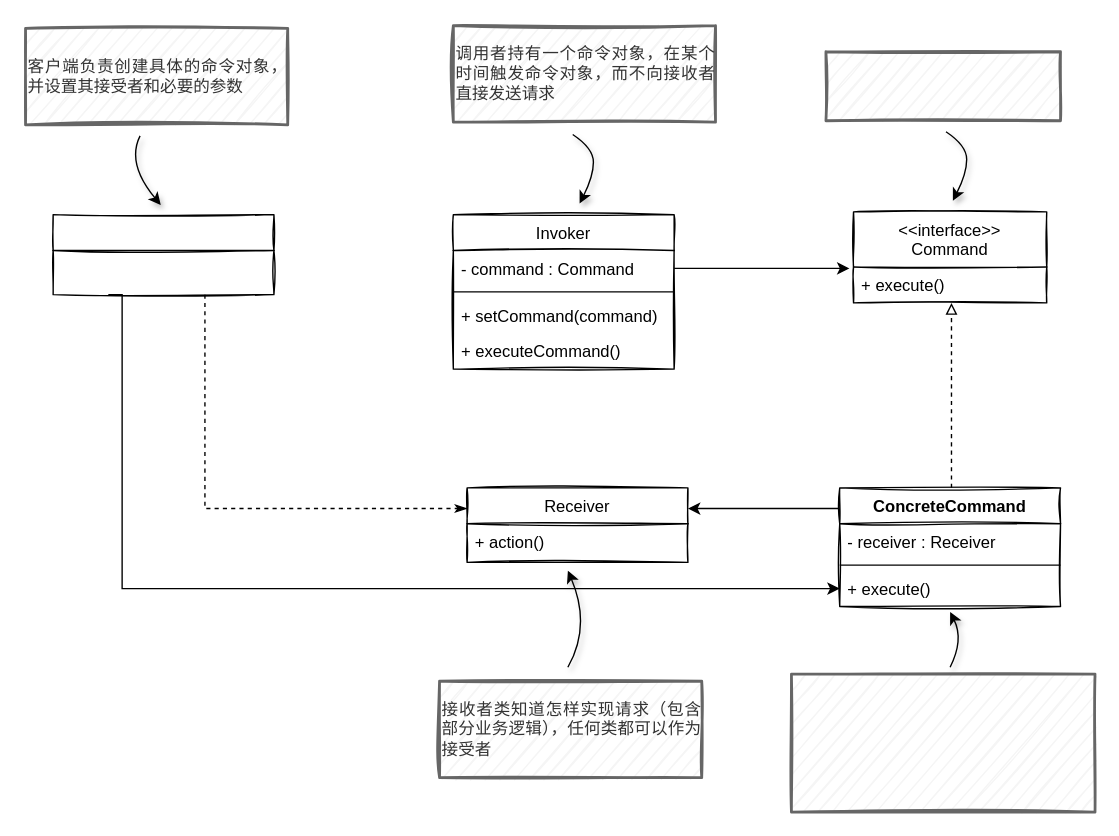
This 1119x836 diagram has some shape labels left out. The shapes that lost their labels are listed below. From the top down, each one's centre as x and y in pixels, then its label:
At pixel 942 85: "声明执行命令的方法".
At pixel 163 254: "Client".
At pixel 942 742: "具体命令会实现各种类型的请求。 具体命令自身并不完成工作， 而是会将调用委派给一个接收者对象。 但为了简化代码， 这些类可以进行合并。".
